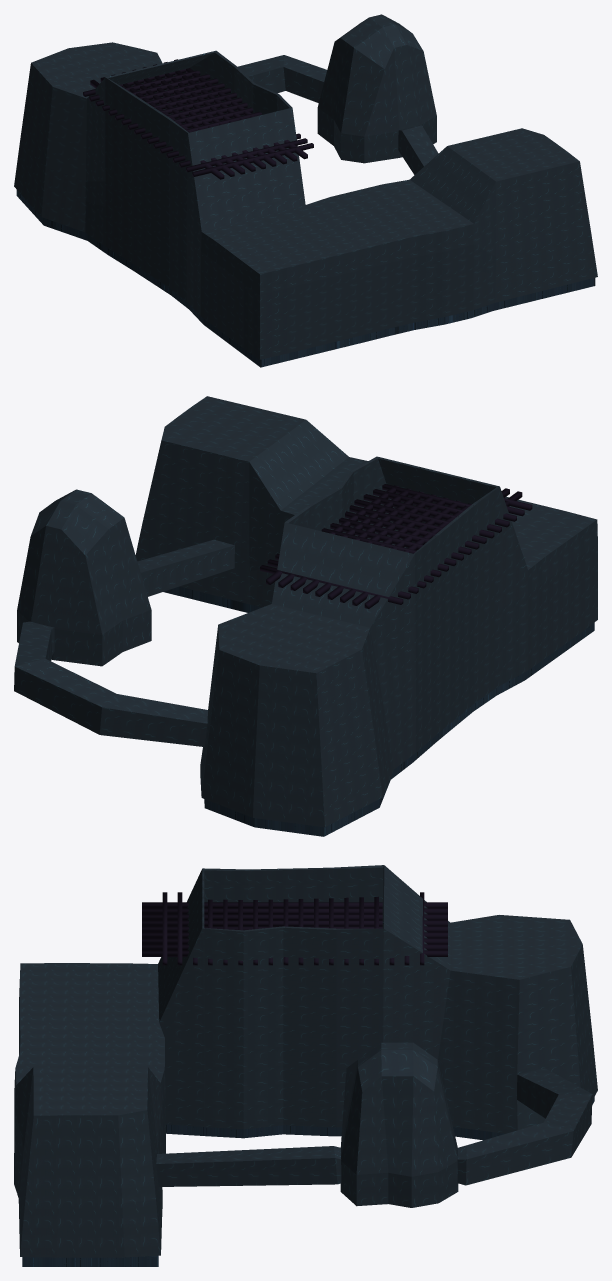
The model's file is lvl2.fbx.
3 renders of one model, top to bottom at view 1: azimuth 30°, elevation 25°; view 2: azimuth 150°, elevation 25°; view 3: azimuth 270°, elevation 25°, orthographic. The views are drawn at different scales.
Parts seen in each view (by area): view 1: Plane; view 2: Plane; view 3: Plane.
Part boxes in pixels (box(x1,y1,x2,y2)): Plane: box(14, 14, 597, 367); Plane: box(14, 396, 597, 836); Plane: box(14, 865, 597, 1266).
Size of the model in its own units: 2982 by 1421 by 3596.
